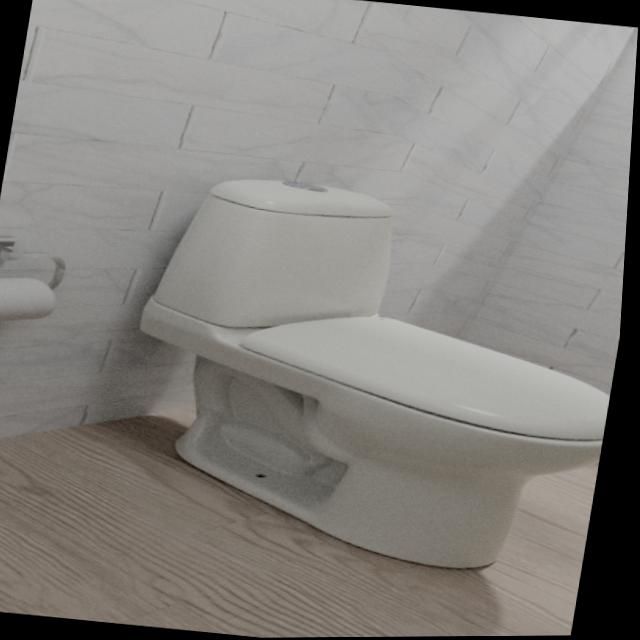toilet: (107, 163, 632, 583)
